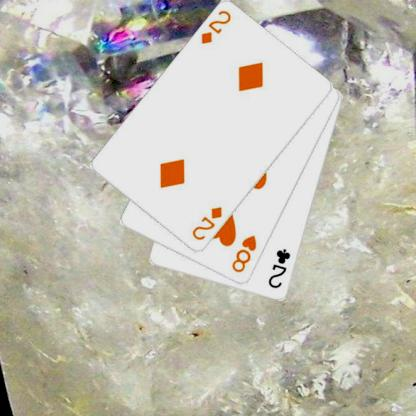2C: (266, 246, 292, 290)
2D: (189, 204, 224, 242), (198, 7, 232, 46)
8H: (229, 232, 258, 274)
